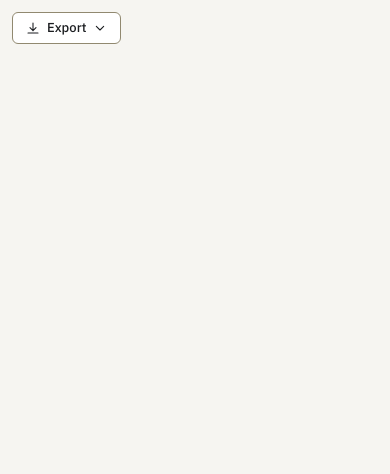
Scenario: the export menu in a browser that cannot write a file it chose › holds and follows the same result in its brief form, which is small enough
Click the button "Export".
click(67, 28)  # box [12, 12, 121, 44]
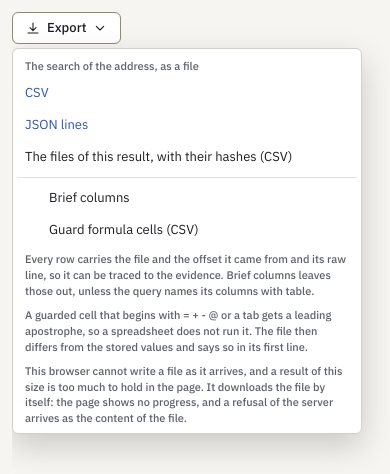
Click the menu item "Brief columns".
click(89, 197)  # box [49, 188, 130, 206]
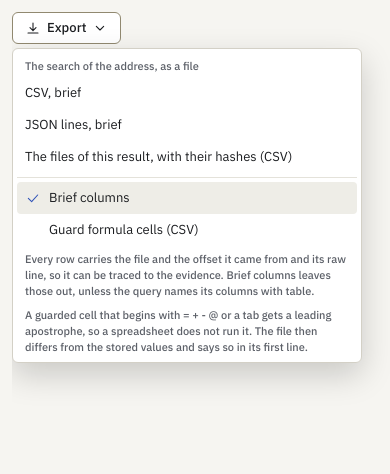
expect the text "This browser cannot write a file as it arrives" is gone: met
